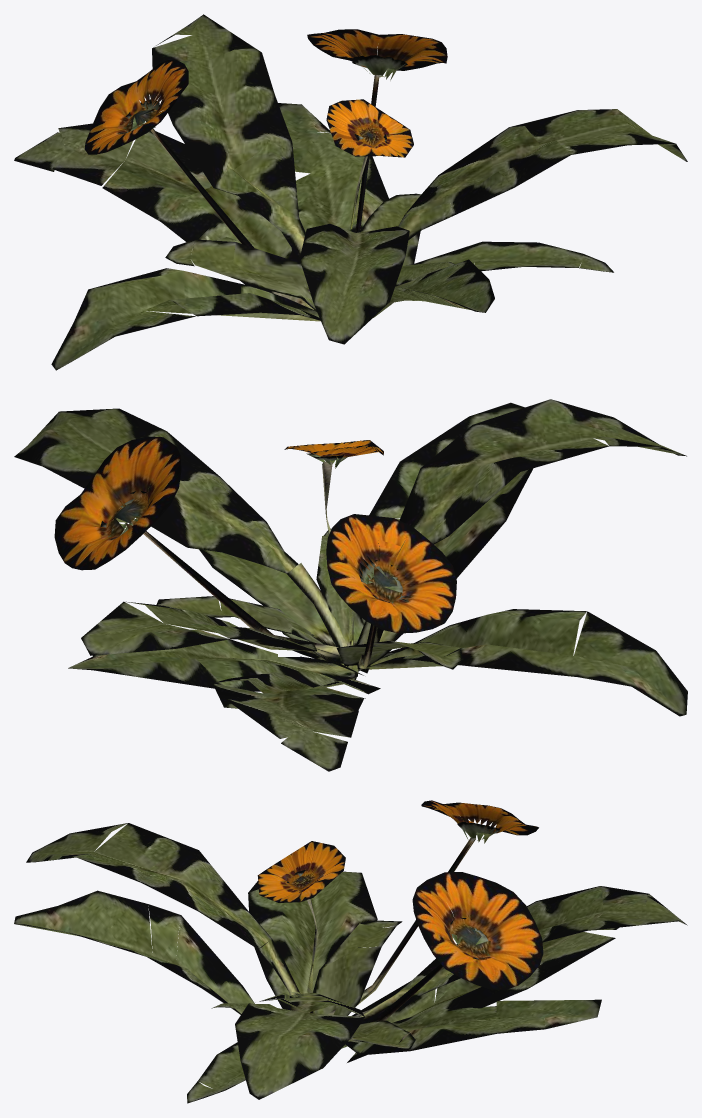
The model's file is ph-blume-gazania-f.glb.
3 renders of one model, top to bottom at view 1: azimuth 30°, elevation 25°; view 2: azimuth 150°, elevation 25°; view 3: azimuth 270°, elevation 25°, orthographic. The views are drawn at different scales.
Parts seen in each view (by area): view 1: flower_gazania_f_LOD0; view 2: flower_gazania_f_LOD0; view 3: flower_gazania_f_LOD0.
Part boxes in pixels (bbox=[...]): flower_gazania_f_LOD0: bbox=[14, 14, 687, 370]; flower_gazania_f_LOD0: bbox=[14, 399, 687, 771]; flower_gazania_f_LOD0: bbox=[14, 800, 687, 1103].
Bounding box in the file's own units: 0.3126 × 0.1098 × 0.3072.
Materials: 1 (1 with a texture image).
